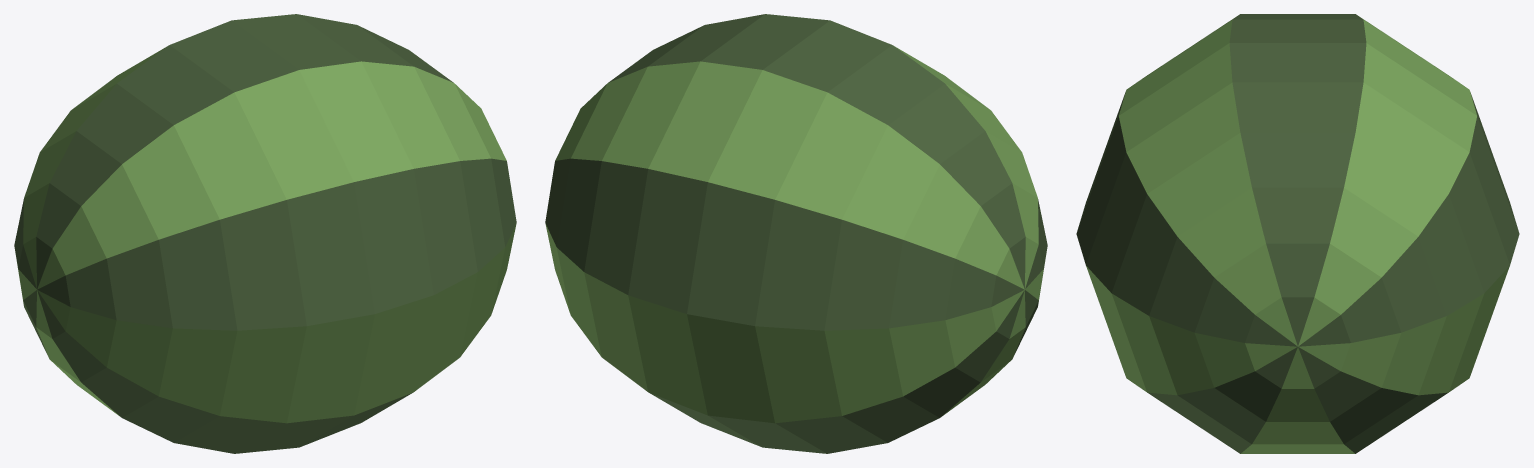
File: Watermelon_Crop.glb
3 views of the same model, side by side, from view 1: azimuth 30°, elevation 25°; view 2: azimuth 150°, elevation 25°; view 3: azimuth 270°, elevation 25° (orthographic).
Parts seen in each view (by area): view 1: DarkGreen2, Green; view 2: DarkGreen2, Green; view 3: DarkGreen2, Green.
Part boxes in pixels (box(x1,y1,x2,y2)): DarkGreen2: box(14, 14, 516, 453); Green: box(16, 45, 516, 423); DarkGreen2: box(545, 14, 1047, 453); Green: box(545, 45, 1045, 423); DarkGreen2: box(1076, 14, 1519, 453); Green: box(1086, 16, 1509, 453).
Bounding box in the file's own units: 0.4443 × 0.351 × 0.369.
